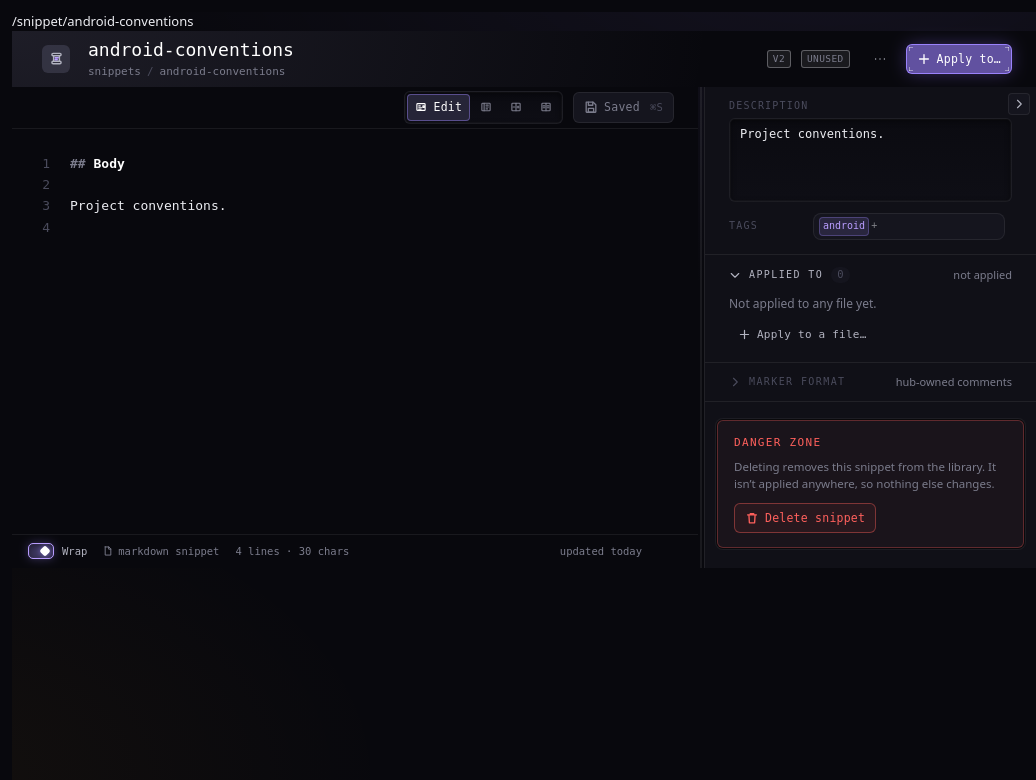
SnippetEditor — header rename › renames through `hub snippet rename` and navigates to the new route
Click the button with aria-label "Rename snippet name: android-conventions": (200, 50) [84, 38, 316, 62]
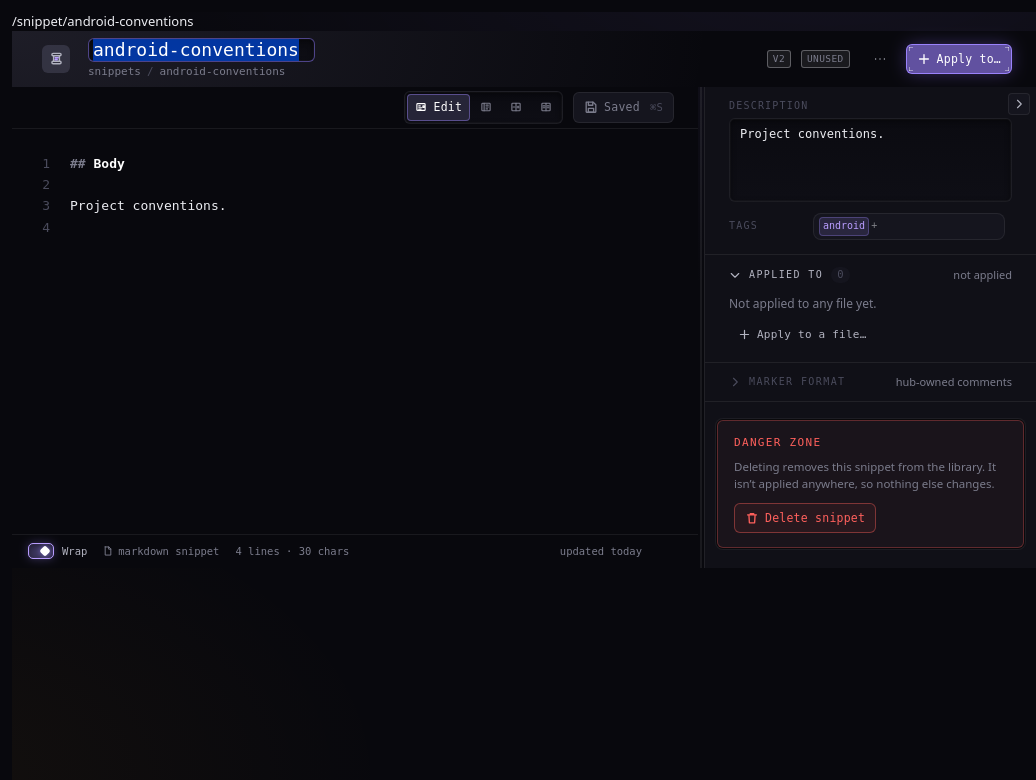
Clear the field named "Snippet name": (201, 50) [88, 38, 315, 62]
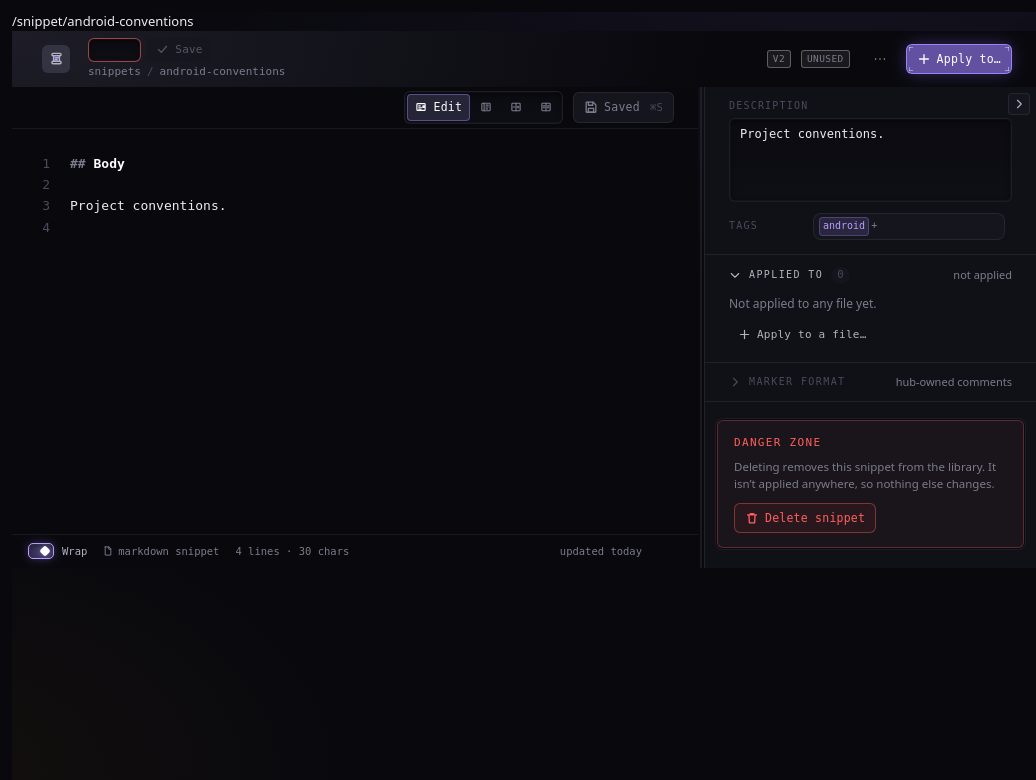
In the field named "Snippet name": (115, 50) [88, 38, 141, 62], type "android-guidelines"
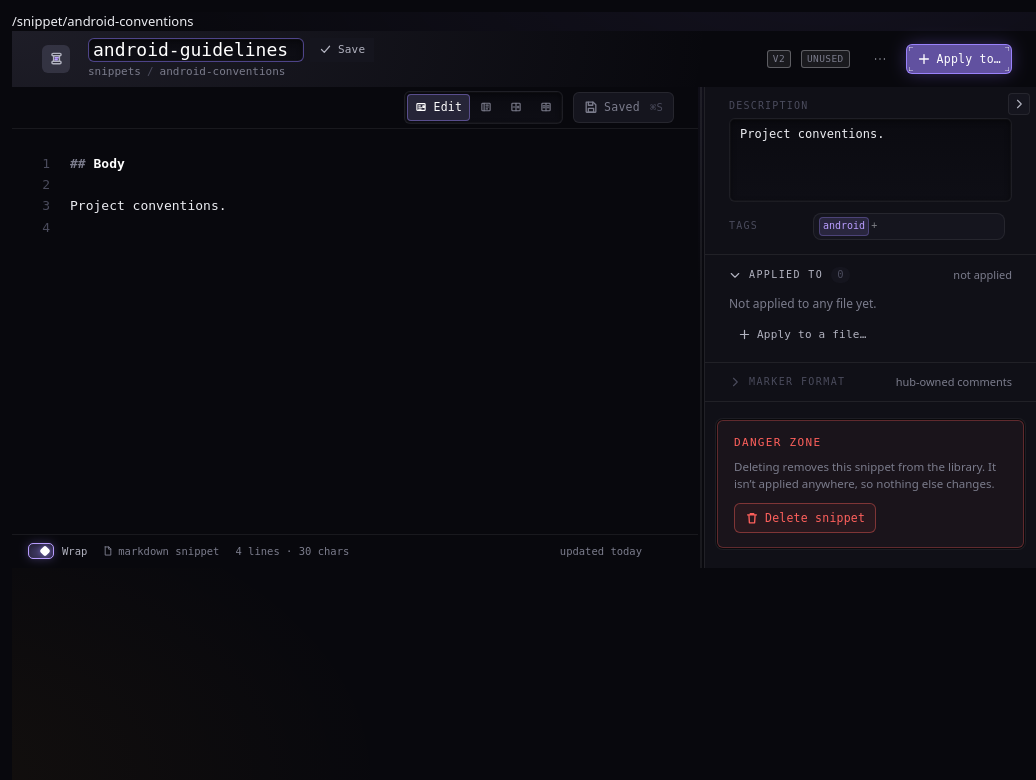
Press Enter
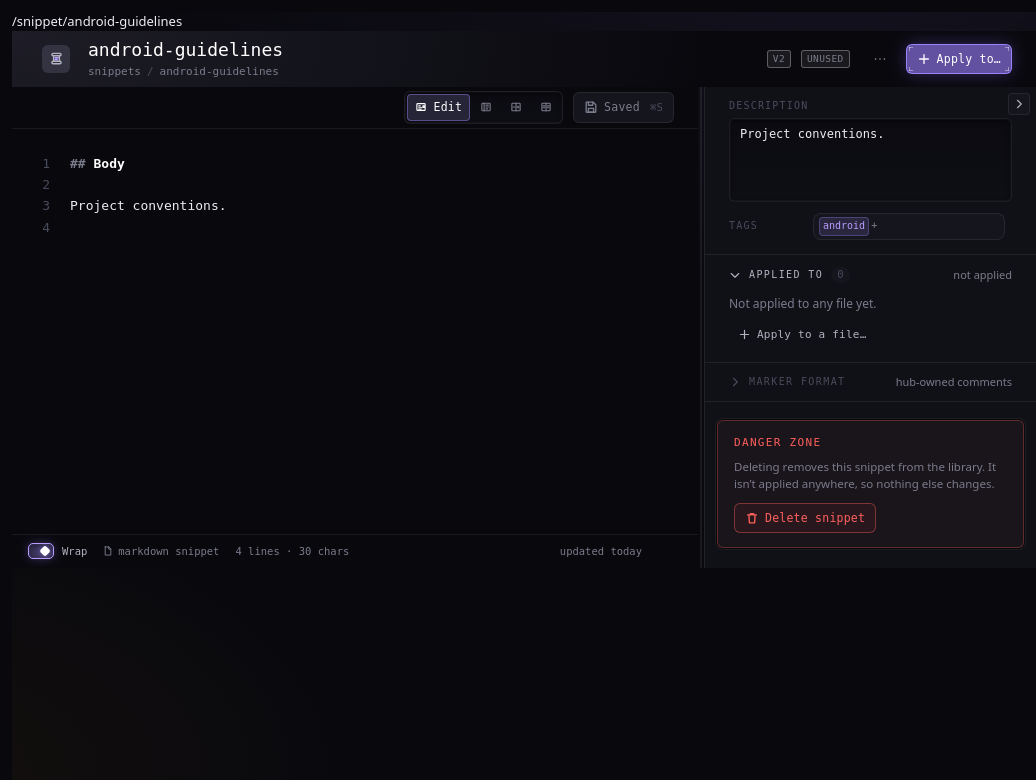
expect the text with test id "loc" reads "/snippet/android-guidelines": met, box [12, 12, 182, 30]
